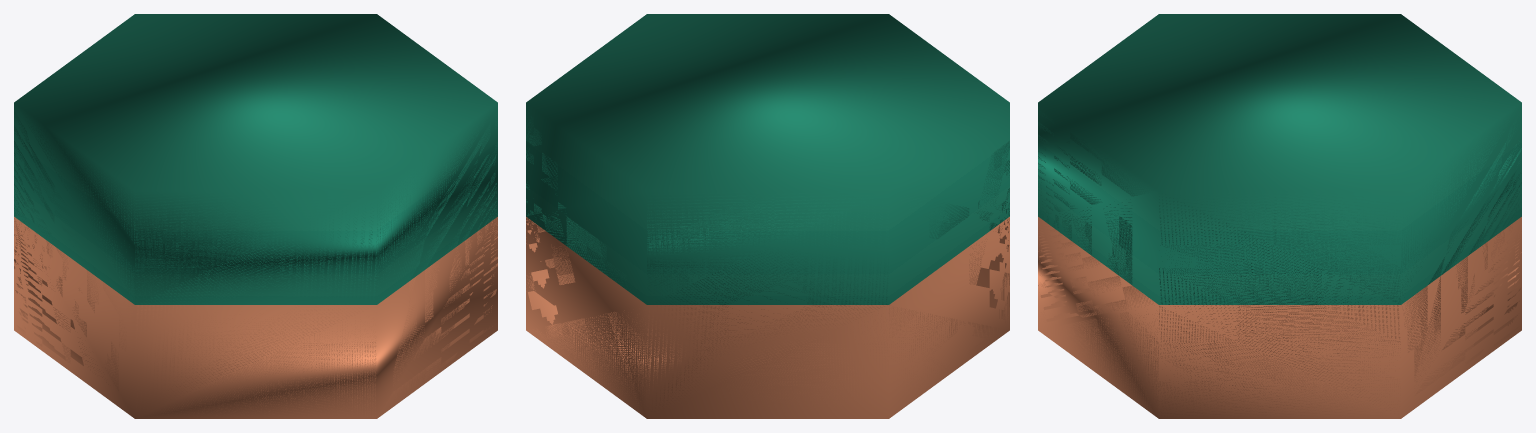
The model's file is flat_jungle.glb.
The picture shows the model from 3 angles, left to right: view 1: azimuth 30°, elevation 25°; view 2: azimuth 150°, elevation 25°; view 3: azimuth 270°, elevation 25°; orthographic projection.
Visible parts, largest first — view 1: grass; view 2: grass; view 3: grass.
Part boxes in pixels (x1,y1,x2,y2): grass: [14, 14, 497, 418]; grass: [526, 14, 1009, 418]; grass: [1038, 14, 1521, 418].
Bounding box in the file's own units: 1 × 0.6 × 1.15.
Materials: 1 (1 with a texture image).
